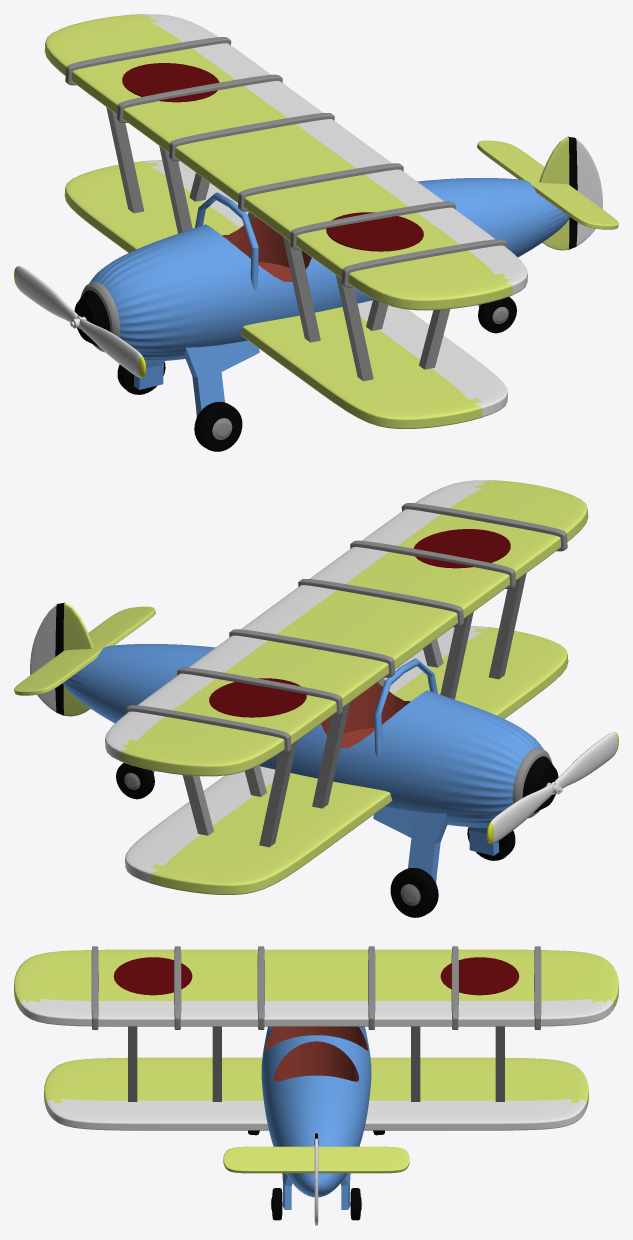
The picture shows the model from 3 angles, top to bottom: view 1: azimuth 30°, elevation 25°; view 2: azimuth 150°, elevation 25°; view 3: azimuth 270°, elevation 25°; orthographic projection. The views are drawn at different scales.
Parts seen in each view (by area): view 1: Cube.004, Cylinder, Cube.005, Cube.012, Cylinder.006, Cube.006, Cube.002, Cube, Cube.003, Cube.007, Cube.009, Cube.008 (+5 smaller); view 2: Cube.004, Cylinder, Cube.005, Cube.012, Cylinder.006, Cube.006, Cube.002, Cube, Cube.003, Cube.007, Cube.009, Cube.008 (+5 smaller); view 3: Cube.004, Cube.005, Cylinder, Cube.006, Cylinder.006, Cube.012, Cube.007, Cube.008, Cube.009, Cylinder.004, Cube.001, Cube.002.
Part boxes in pixels (<box>): Cube.004: <box>44,14,527,310</box>; Cylinder: <box>89,178,569,361</box>; Cube.005: <box>64,160,507,428</box>; Cube.012: <box>106,107,450,381</box>; Cylinder.006: <box>122,63,423,251</box>; Cube.006: <box>477,140,618,229</box>; Cube.002: <box>539,136,602,250</box>; Cube: <box>133,340,259,417</box>; Cube.003: <box>14,266,146,377</box>; Cube.007: <box>65,37,507,287</box>; Cube.009: <box>169,113,403,211</box>; Cube.008: <box>117,74,455,249</box>; Cube.004: <box>105,480,588,776</box>; Cylinder: <box>63,644,543,827</box>; Cube.005: <box>125,626,568,894</box>; Cube.012: <box>182,573,526,847</box>; Cylinder.006: <box>209,529,510,717</box>; Cube.006: <box>14,606,155,695</box>; Cube.002: <box>30,602,93,716</box>; Cube: <box>373,806,499,883</box>; Cube.003: <box>486,732,618,843</box>; Cube.007: <box>125,503,567,753</box>; Cube.009: <box>229,579,463,677</box>; Cube.008: <box>177,540,515,715</box>; Cube.004: <box>14,949,618,1026</box>; Cube.005: <box>44,1057,588,1130</box>; Cylinder: <box>261,1026,371,1197</box>; Cube.006: <box>223,1146,409,1173</box>; Cylinder.006: <box>113,957,519,995</box>; Cube.012: <box>128,1026,504,1101</box>; Cube.007: <box>91,946,541,1029</box>; Cube.008: <box>174,946,458,1029</box>; Cube.009: <box>257,946,375,1029</box>; Cylinder.004: <box>270,1188,362,1220</box>; Cube.001: <box>282,1173,350,1209</box>; Cube.002: <box>314,1132,318,1225</box>.
Size of the model in its own units: 8.87 by 3.95 by 10.92.
